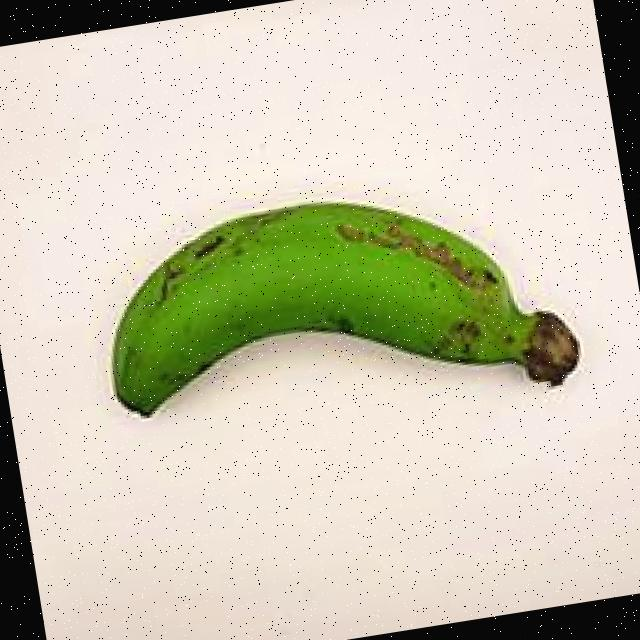Raw: (49, 135, 632, 520)
